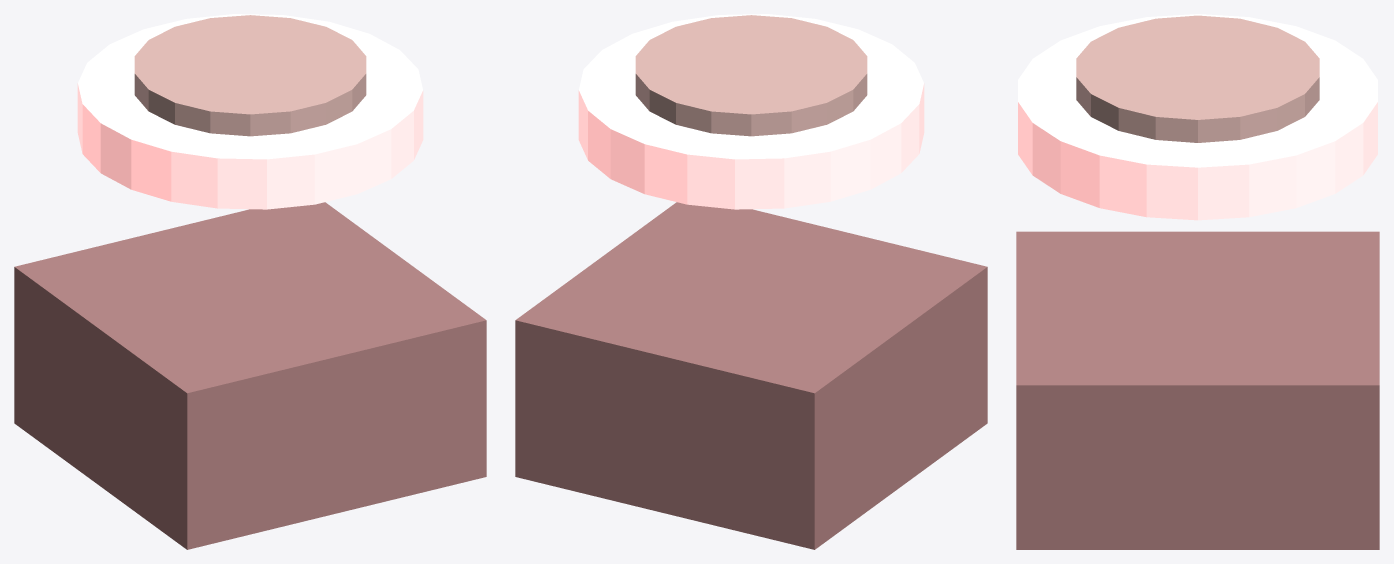
File: Bounce_Half.glb
3 views of the same model, side by side, from view 1: azimuth 30°, elevation 25°; view 2: azimuth 150°, elevation 25°; view 3: azimuth 270°, elevation 25° (orthographic). The views are drawn at different scales.
Parts seen in each view (by area): view 1: Bounce_Half_body, bounce_base.001, bounce_fill_ring.001; view 2: Bounce_Half_body, bounce_base.001, bounce_fill_ring.001; view 3: Bounce_Half_body, bounce_base.001, bounce_fill_ring.001.
Part boxes in pixels (x1=…): Bounce_Half_body: x1=14, y1=202, x2=486, y2=549; bounce_base.001: x1=77, y1=14, x2=423, y2=209; bounce_fill_ring.001: x1=134, y1=15, x2=366, y2=136; Bounce_Half_body: x1=515, y1=202, x2=987, y2=549; bounce_base.001: x1=578, y1=14, x2=924, y2=209; bounce_fill_ring.001: x1=635, y1=15, x2=867, y2=136; Bounce_Half_body: x1=1016, y1=231, x2=1379, y2=549; bounce_base.001: x1=1018, y1=14, x2=1377, y2=220; bounce_fill_ring.001: x1=1076, y1=15, x2=1319, y2=142.
Size of the model in its own units: 1 by 1.23 by 1.
